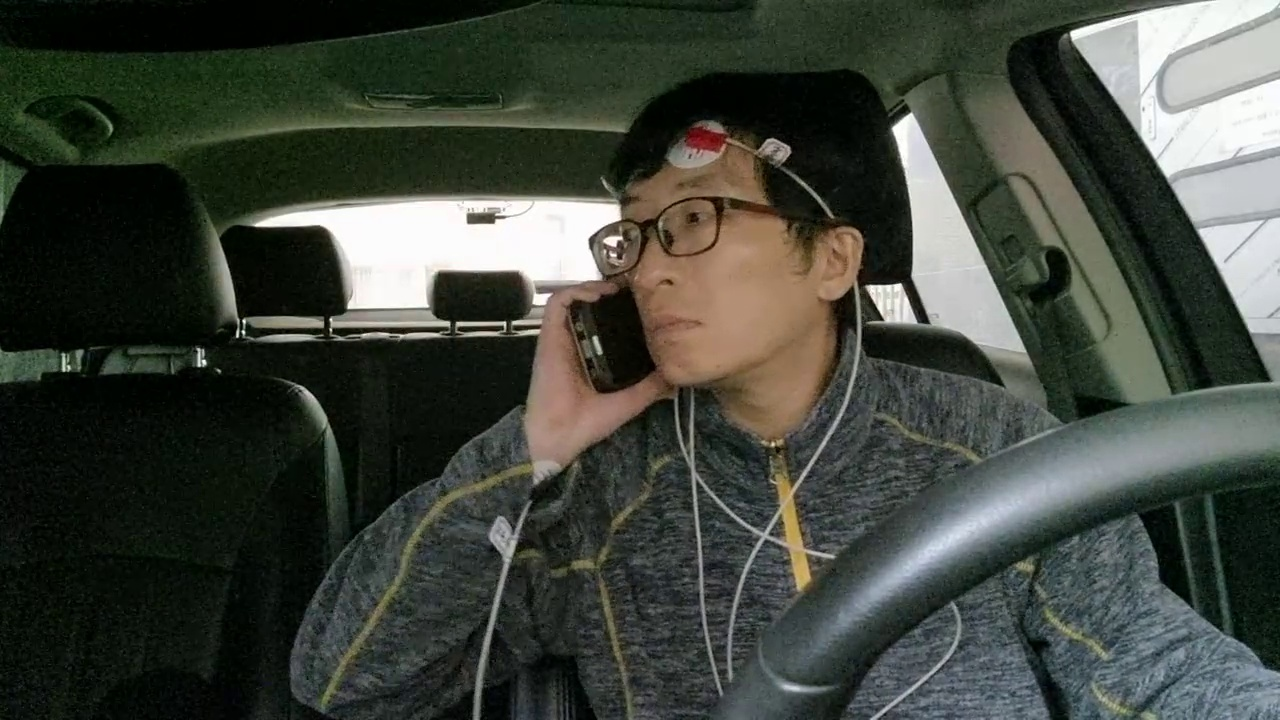phone: (533, 239, 687, 437)
